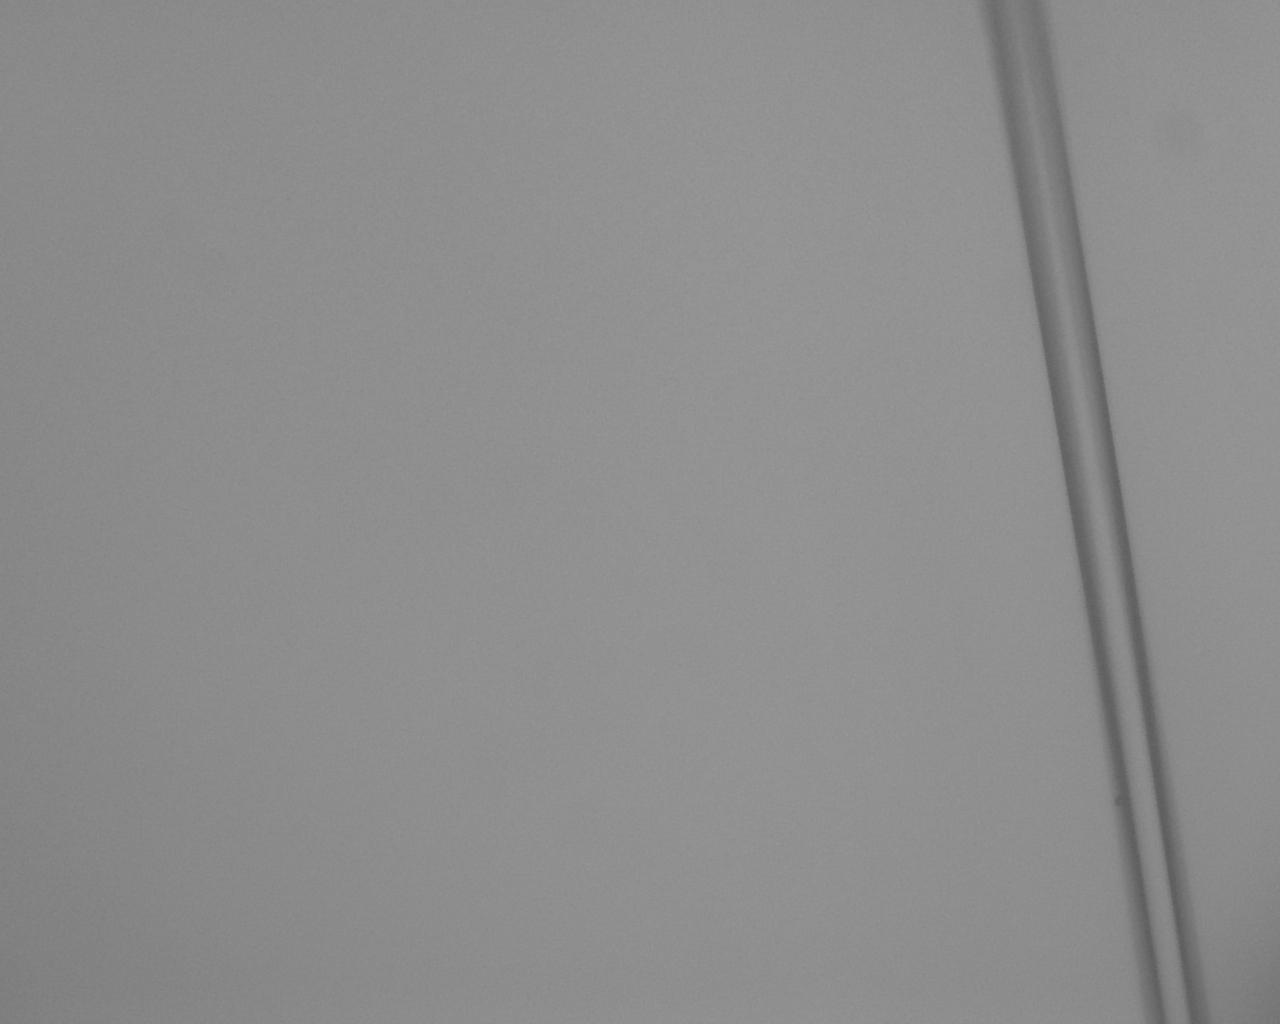fiber: (704, 339, 1280, 563), (457, 563, 704, 1024), (974, 563, 992, 1024)
